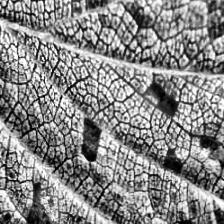Angular Leafspot: (0, 73, 224, 224)
